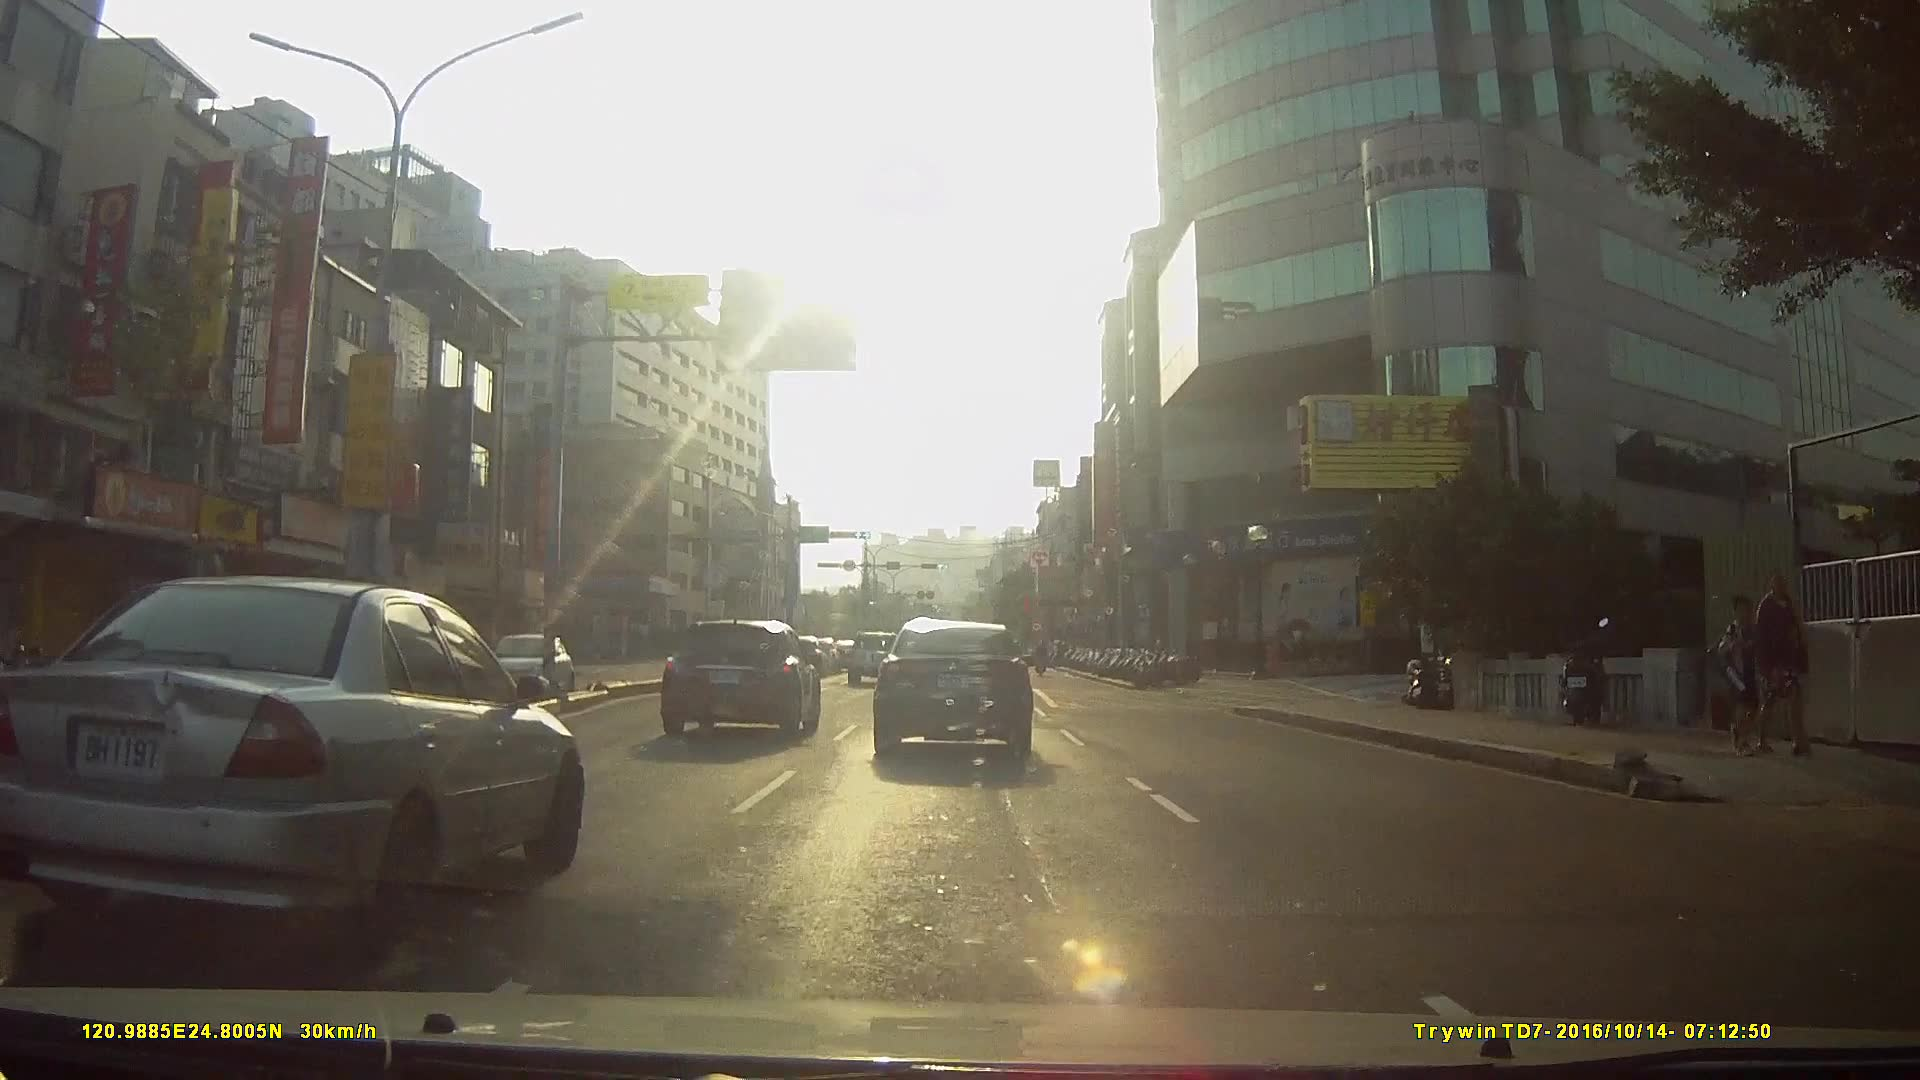pedestrian: (1744, 575, 1815, 763), (1714, 594, 1783, 764)
vehicle: (0, 570, 581, 952), (871, 617, 1034, 764), (656, 612, 820, 738), (480, 634, 580, 706), (844, 628, 904, 685)
